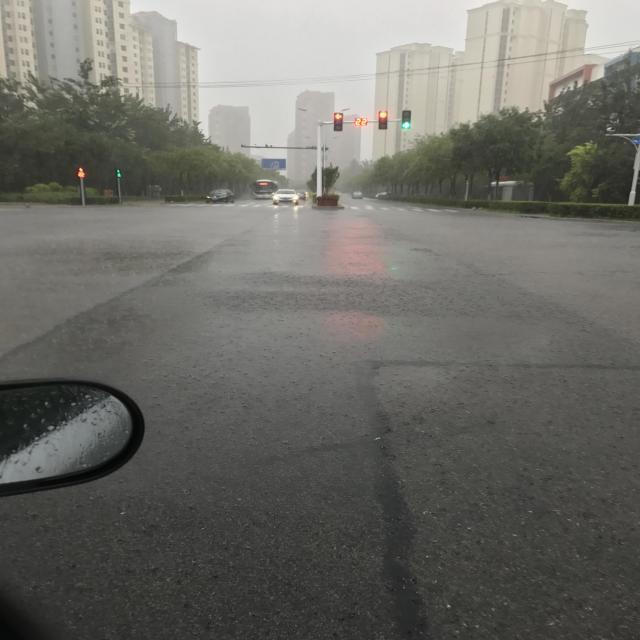car: (179, 359, 198, 391), (188, 341, 205, 369), (188, 404, 202, 435), (190, 274, 200, 290)
